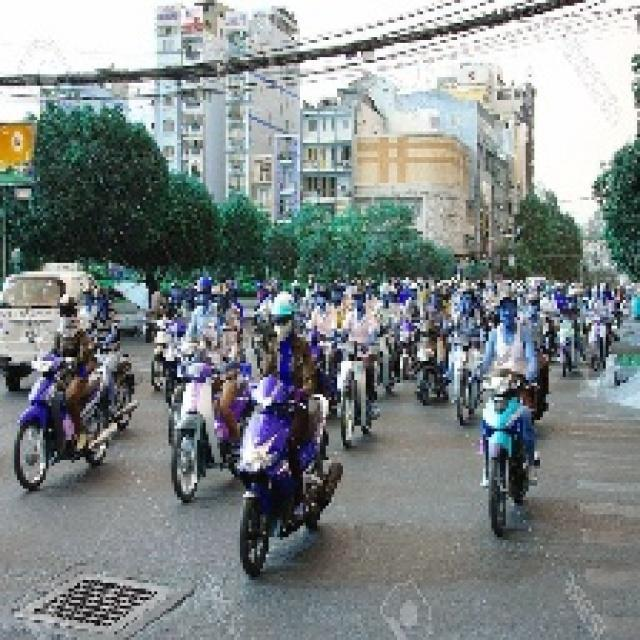bike: (240, 366, 336, 569), (11, 359, 117, 484), (482, 355, 540, 521), (166, 352, 228, 498), (338, 341, 386, 444)
